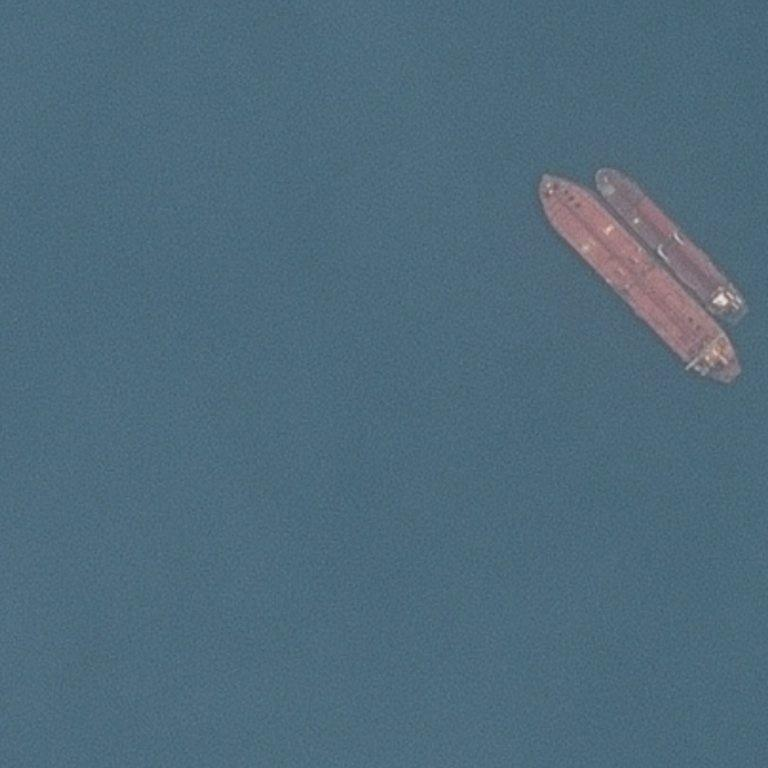ship: (525, 158, 761, 395), (535, 172, 550, 184), (721, 377, 732, 387), (736, 368, 746, 376)
